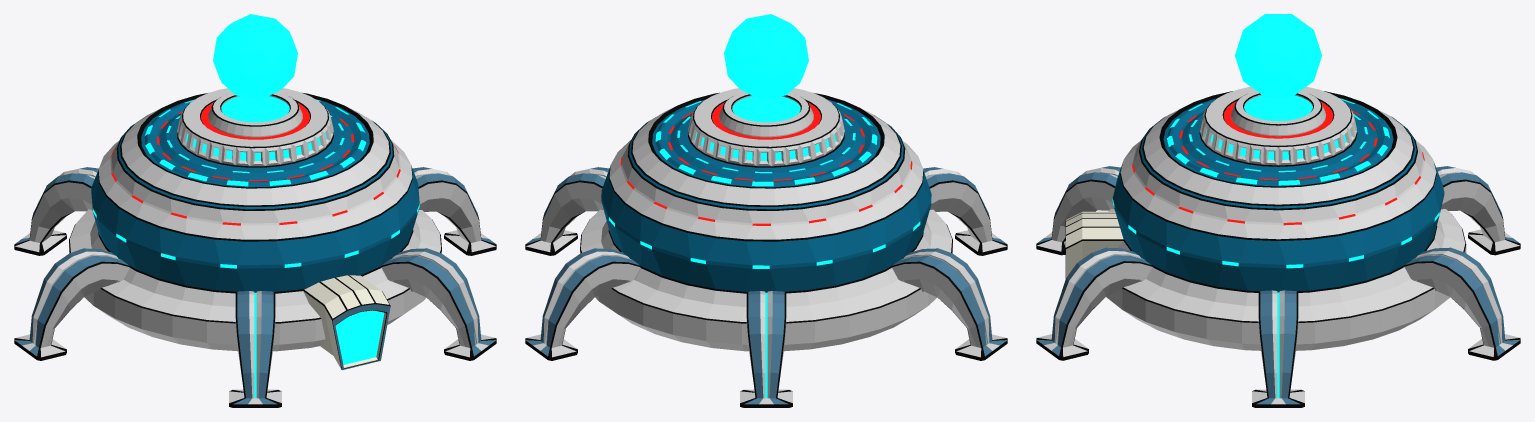
File: База (без UV).fbx
3 views of the same model, side by side, from view 1: azimuth 30°, elevation 25°; view 2: azimuth 150°, elevation 25°; view 3: azimuth 270°, elevation 25° (orthographic).
Visible parts, largest first — view 1: Cylinder, Cube.006, Icosphere, Cube.005, Cube.003, Cube.004, Cube.002, Cube; view 2: Cylinder, Icosphere, Cube.003, Cube.001, Cube.002, Cube.004, Cube; view 3: Cylinder, Icosphere, Cube.001, Cube.005, Cube, Cube.002, Cube.004, Cube.006.
Boxes of the visible parts, <box> form: Cylinder: <box>69,88,441,351</box>; Cube.006: <box>303,275,390,370</box>; Icosphere: <box>213,14,297,99</box>; Cube.005: <box>381,248,496,360</box>; Cube.003: <box>14,248,129,360</box>; Cube.004: <box>229,291,281,407</box>; Cube.002: <box>14,167,98,255</box>; Cube: <box>412,167,496,255</box>; Cylinder: <box>580,88,952,351</box>; Icosphere: <box>724,14,808,99</box>; Cube.003: <box>892,248,1007,360</box>; Cube.001: <box>525,248,640,360</box>; Cube.002: <box>740,291,792,407</box>; Cube.004: <box>923,167,1007,255</box>; Cube: <box>525,167,609,255</box>; Cylinder: <box>1106,86,1466,350</box>; Icosphere: <box>1235,14,1321,96</box>; Cube.001: <box>1404,247,1520,360</box>; Cube.005: <box>1036,247,1152,360</box>; Cube: <box>1252,290,1304,407</box>; Cube.002: <box>1436,166,1520,255</box>; Cube.004: <box>1036,166,1120,255</box>; Cube.006: <box>1065,211,1123,278</box>.
Bounding box in the file's own units: 337 × 195 × 306.
